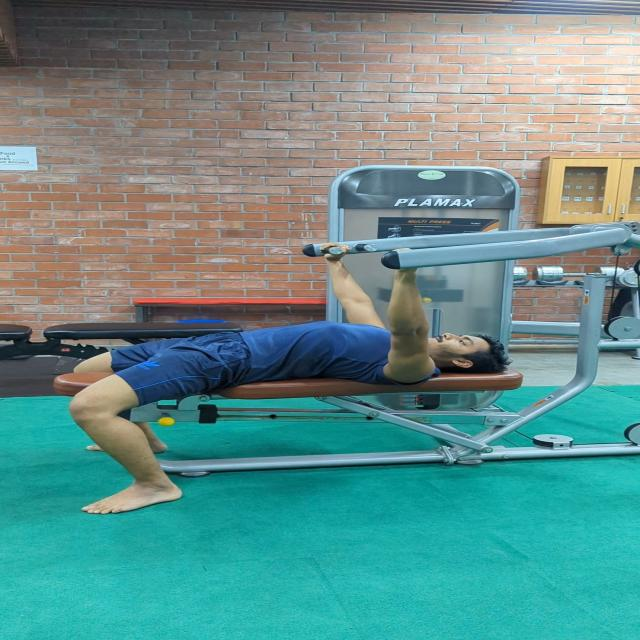Normal_BrenchPress: (40, 239, 508, 524)
